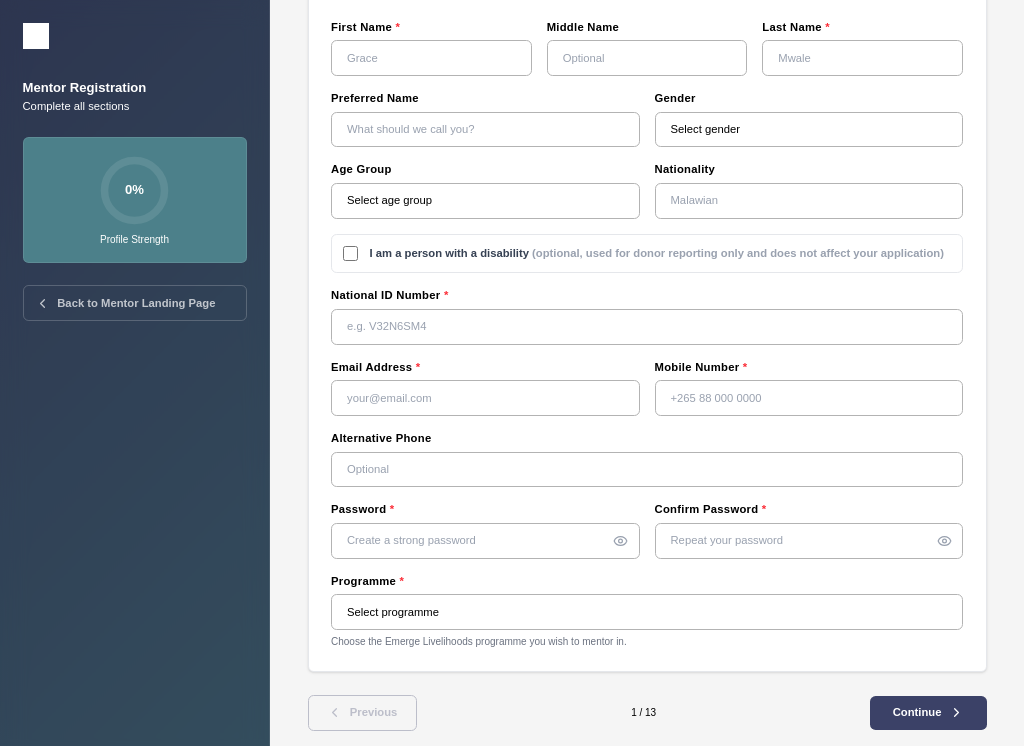
mentor registration rejects duplicates right away › asks for the National ID and phone before letting a blank step 1 continue
(page scrolled)
Click the button "Continue" at [928, 713], box [870,696,987,730]
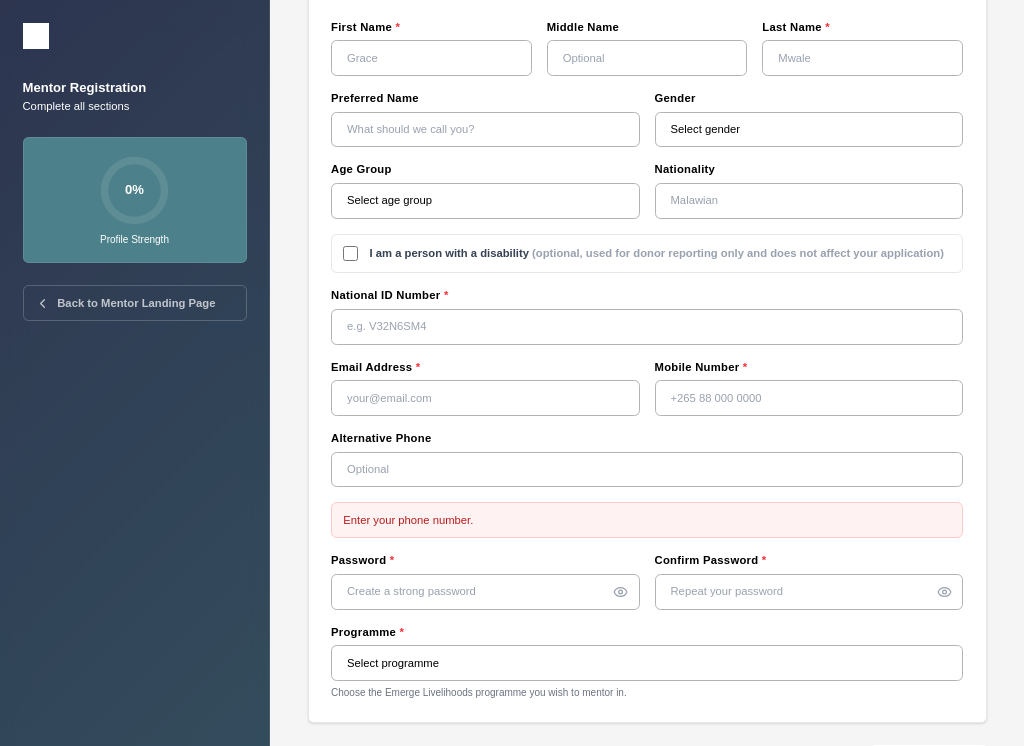
Now the message reads "Enter your phone number.", box [343,514,473,526]
